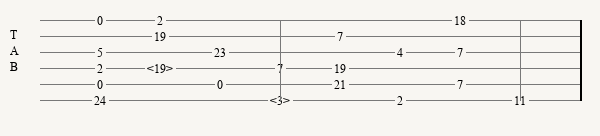0: (97, 78, 107, 91), (97, 14, 107, 27), (217, 78, 227, 91)
11: (514, 94, 530, 107)
18: (454, 14, 470, 27)
19: (154, 30, 170, 43), (334, 62, 350, 75)
2: (97, 62, 107, 75), (157, 14, 167, 27), (397, 94, 407, 107)
21: (334, 78, 350, 91)
23: (214, 46, 230, 59)
24: (94, 94, 110, 107)
4: (397, 46, 407, 59)
5: (97, 46, 107, 59)
7: (277, 62, 287, 75), (337, 30, 347, 43), (457, 78, 467, 91), (457, 46, 467, 59)
harmonic: (147, 62, 177, 75), (270, 94, 294, 107)
